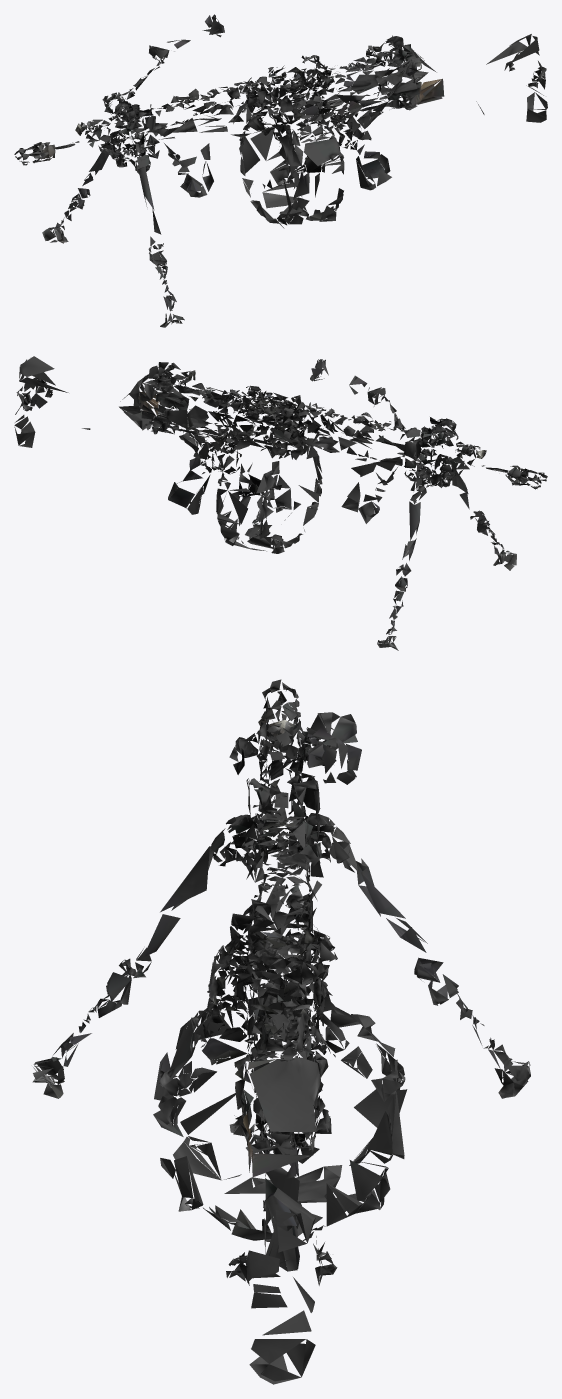
Rendered from lmg.glb.
The picture shows the model from 3 angles, top to bottom: view 1: azimuth 30°, elevation 25°; view 2: azimuth 150°, elevation 25°; view 3: azimuth 270°, elevation 25°; orthographic projection. The views are drawn at different scales.
Visible parts, largest first — view 1: Mesh_0; view 2: Mesh_0; view 3: Mesh_0.
Boxes of the visible parts, left/top/right/bottom form: Mesh_0: left=14, top=14, right=547, bottom=327; Mesh_0: left=14, top=356, right=547, bottom=650; Mesh_0: left=32, top=679, right=530, bottom=1384.
Bounding box in the file's own units: 1.91 × 0.8069 × 0.7868.
Materials: 1 (1 with a texture image).
